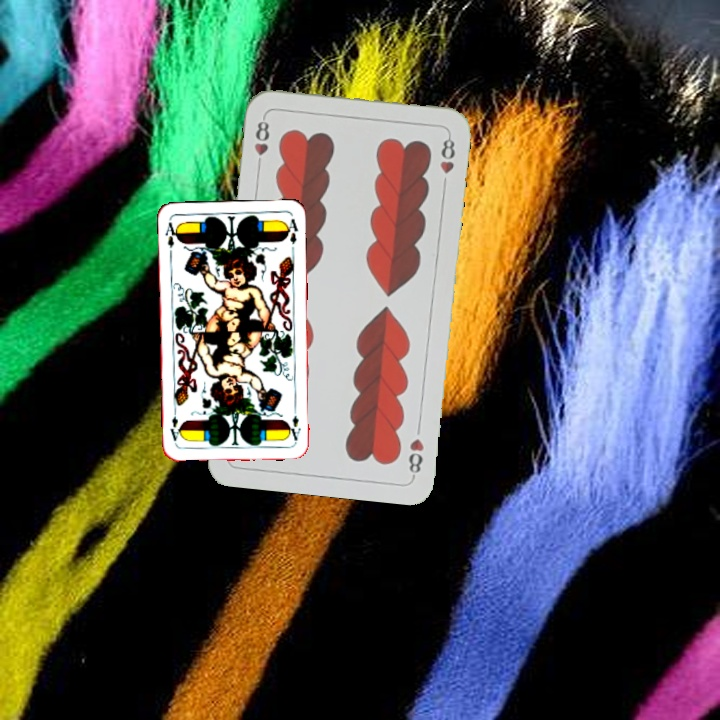EA: (286, 403, 303, 443), (161, 218, 180, 251)
H8: (250, 113, 272, 172), (404, 434, 427, 479)
